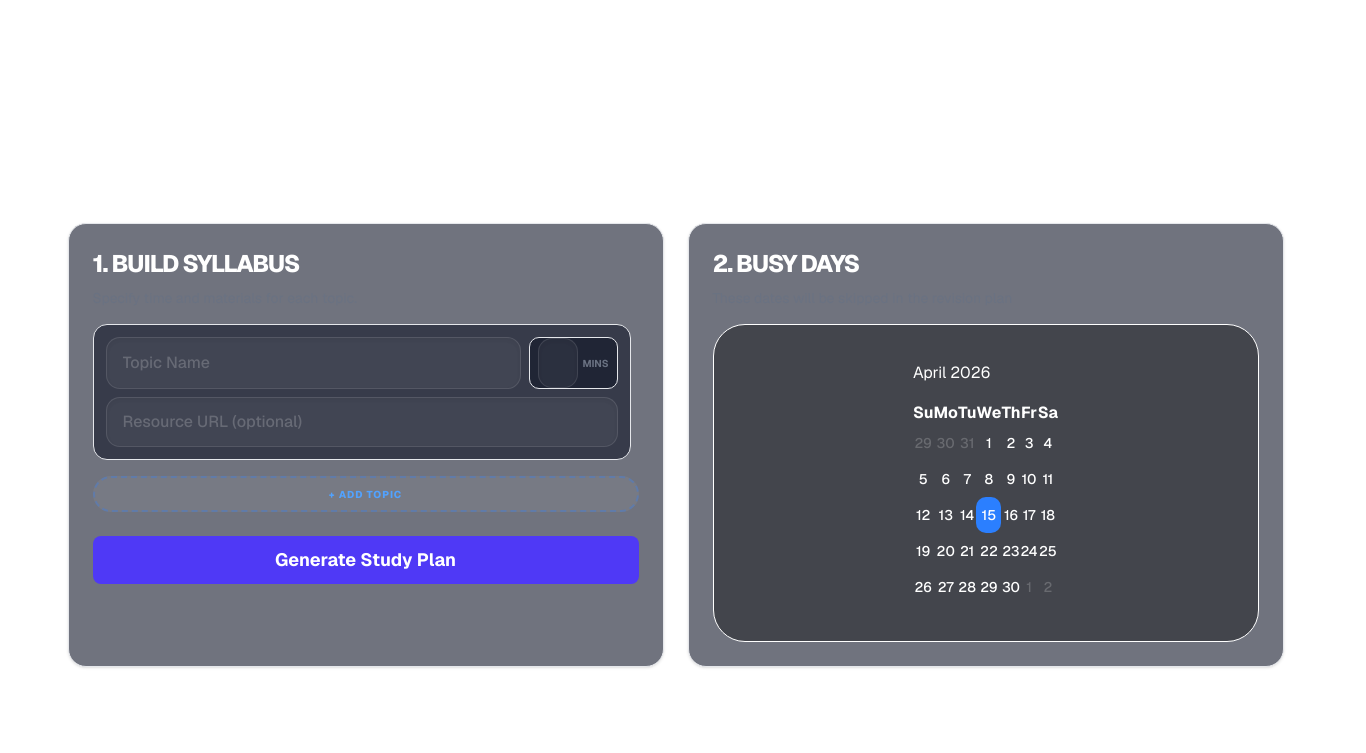
Test: Exam detail page [id] › adds a new topic when Add is clicked
The width and height of the screenshot is (1366, 753).
Click the button "+ Add Topic" at (366, 494), box [92,476,638,512]
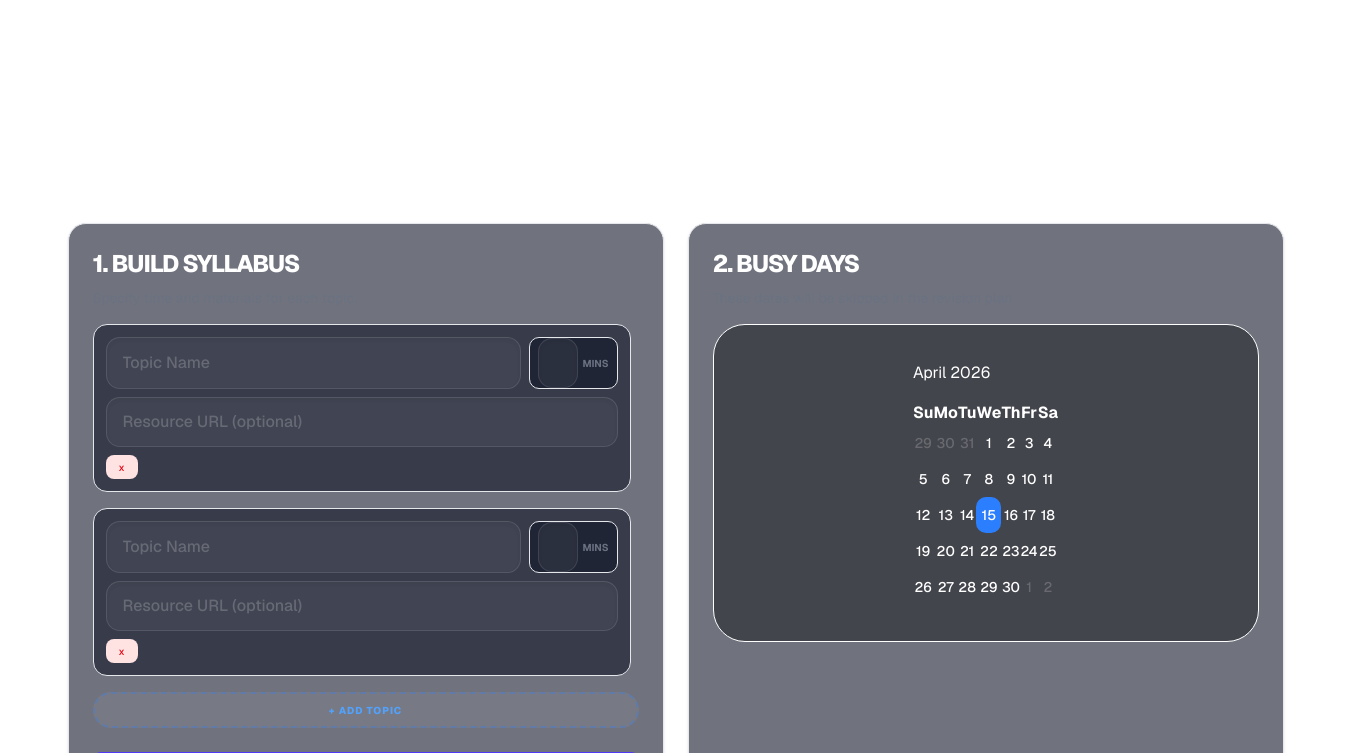
Now the number of fields with placeholder "Topic Name" is 2, box [106,337,522,389]; [106,521,522,573]
